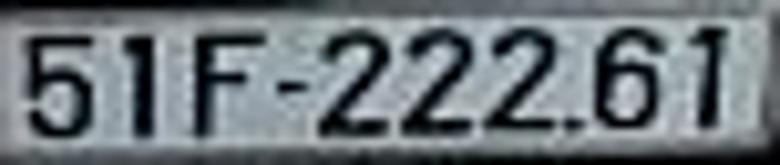-: (275, 75, 313, 101)
.: (563, 109, 586, 140)
1: (121, 30, 160, 142), (692, 20, 729, 128)
2: (316, 27, 394, 140), (405, 25, 477, 138), (486, 21, 556, 134)
5: (26, 30, 97, 140)
6: (594, 21, 666, 134)
F: (186, 27, 270, 141)
